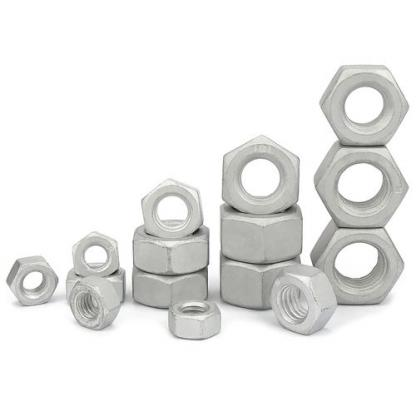FOD: (309, 143, 412, 231), (310, 216, 408, 306), (320, 57, 410, 148), (218, 132, 302, 218), (129, 218, 215, 278), (267, 266, 340, 336), (218, 202, 305, 260), (215, 256, 305, 310), (138, 176, 206, 243), (129, 260, 215, 310), (64, 276, 122, 331), (3, 255, 61, 304), (66, 230, 122, 278), (170, 297, 224, 343)
